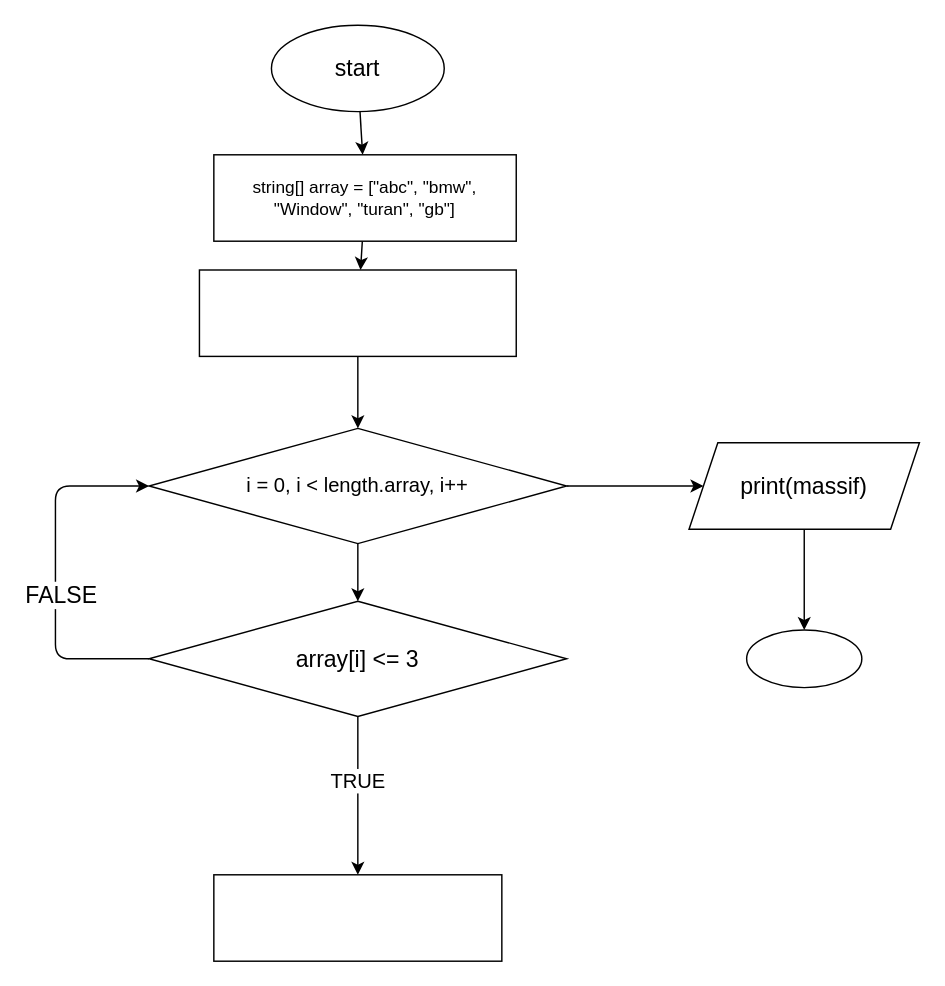
This 945x986 diagram has some shape labels left out. Here are the shapes that lost their labels. From the top down, the centre of each, then its label:
pixel 357 312: string [] = new massif[] {}
pixel 803 658: end
pixel 357 917: string[] massif = array[i].Append()
